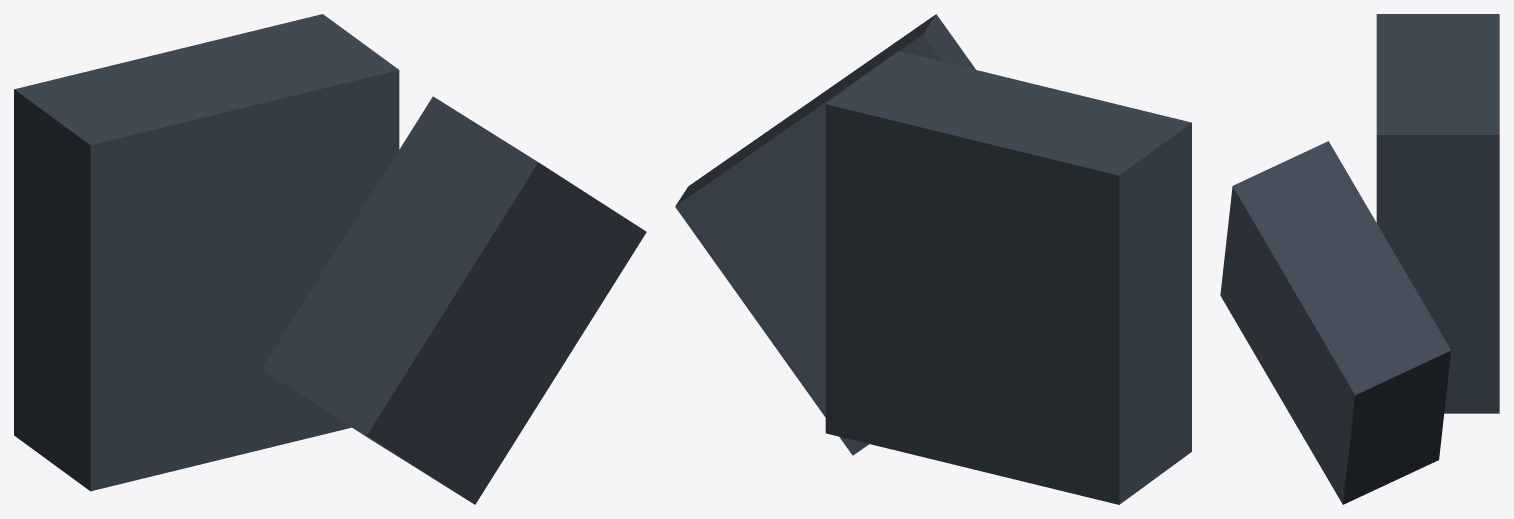
File: grave_broken.glb
3 renders of one model, left to right at view 1: azimuth 30°, elevation 25°; view 2: azimuth 150°, elevation 25°; view 3: azimuth 270°, elevation 25°, orthographic. The views are drawn at different scales.
Bounding box in the file's own units: 0.7386 × 0.563 × 0.4092.
